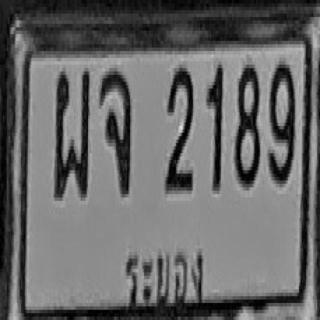A08: (99, 68, 133, 198)
A28: (53, 66, 90, 203)
N01: (206, 63, 223, 189)
N02: (165, 65, 194, 194)
N08: (233, 62, 261, 190)
N09: (268, 59, 295, 182)
P53: (124, 234, 205, 311)
